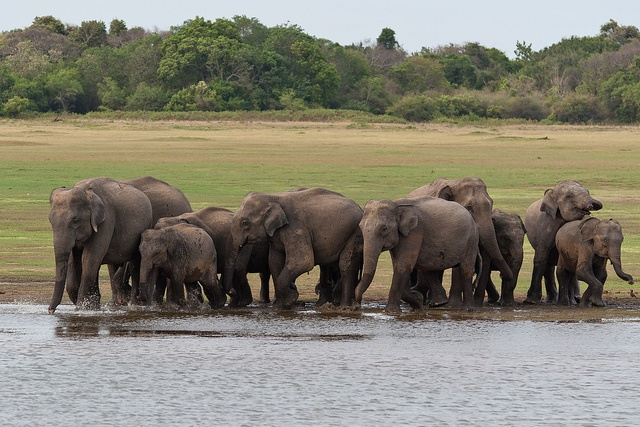elephant: (224, 184, 363, 312), (46, 175, 152, 315), (358, 198, 478, 311), (523, 180, 603, 305), (555, 215, 636, 308), (138, 224, 225, 310)
